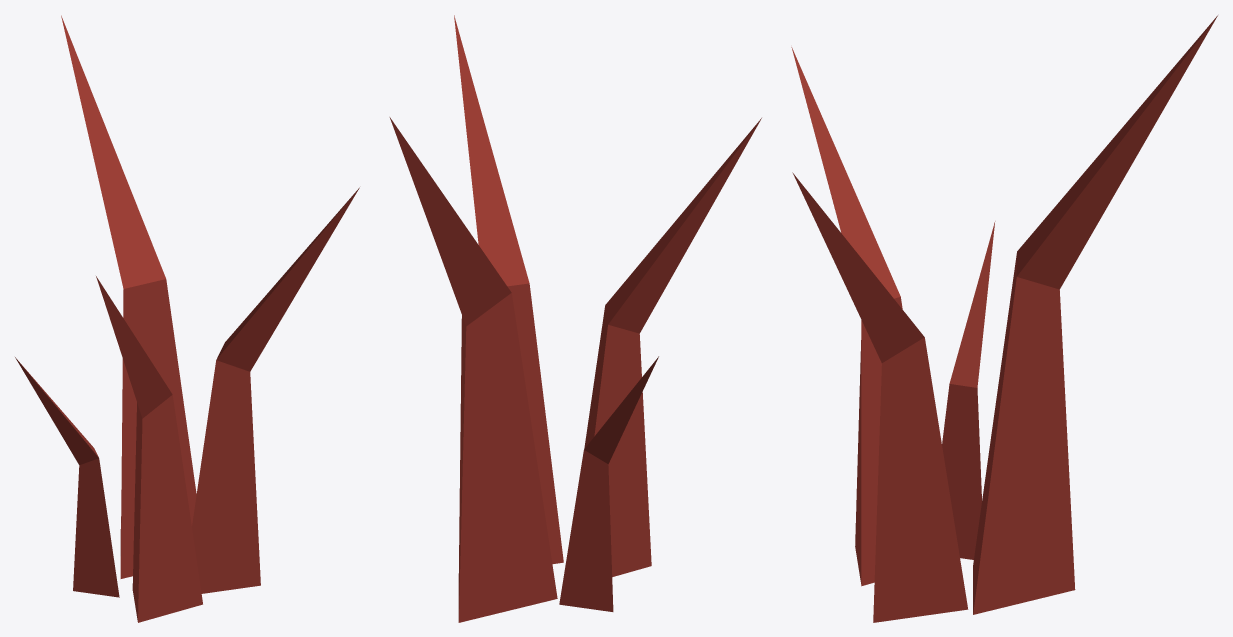
Rendered from Grass_4_Red.fbx.
3 renders of one model, left to right at view 1: azimuth 30°, elevation 25°; view 2: azimuth 150°, elevation 25°; view 3: azimuth 270°, elevation 25°, orthographic. The views are drawn at different scales.
Visible parts, largest first — view 1: Grass_4_Red; view 2: Grass_4_Red; view 3: Grass_4_Red.
Boxes of the visible parts, <box> form: Grass_4_Red: <box>15,15,359,622</box>; Grass_4_Red: <box>389,15,761,622</box>; Grass_4_Red: <box>791,15,1217,622</box>.
Bounding box in the file's own units: 16.21 × 28.02 × 18.86.
